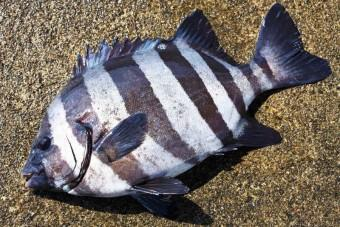fish: (17, 4, 333, 221)
